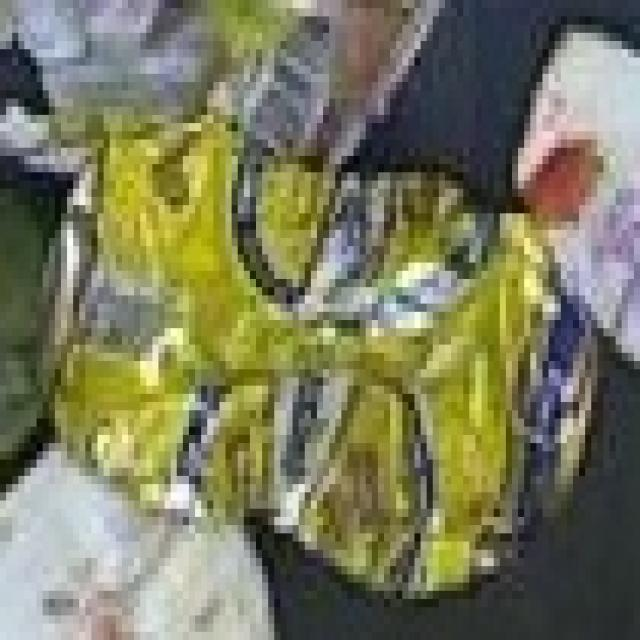litter: (35, 85, 606, 630)
